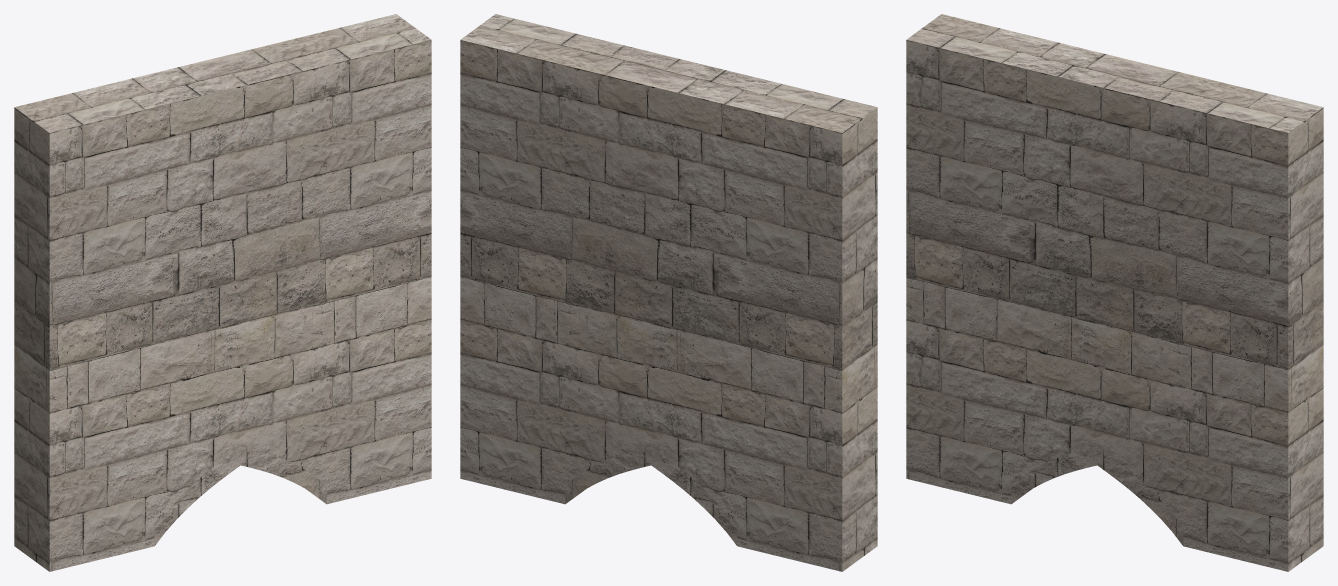
Rendered from arched_hall_gable.glb.
3 views of the same model, side by side, from view 1: azimuth 30°, elevation 25°; view 2: azimuth 150°, elevation 25°; view 3: azimuth 330°, elevation 25° (orthographic).
Visible parts, largest first — view 1: Arched masonry head and deep reveal, Pointed cut-stone course; view 2: Arched masonry head and deep reveal, Pointed cut-stone course; view 3: Arched masonry head and deep reveal, Pointed cut-stone course.
Boxes of the visible parts, x1=… form: Arched masonry head and deep reveal: x1=14, y1=14, x2=431, y2=571; Pointed cut-stone course: x1=154, y1=446, x2=326, y2=545; Arched masonry head and deep reveal: x1=460, y1=14, x2=877, y2=571; Pointed cut-stone course: x1=565, y1=446, x2=737, y2=545; Arched masonry head and deep reveal: x1=906, y1=14, x2=1323, y2=571; Pointed cut-stone course: x1=1011, y1=446, x2=1183, y2=545.
Bounding box in the file's own units: 4 × 4.39 × 0.642.
Materials: 1 (1 with a texture image).
